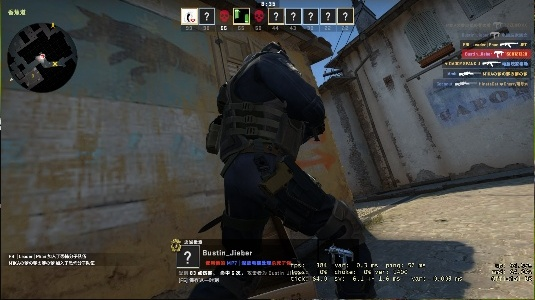body: (191, 42, 378, 299)
head: (258, 45, 297, 66)
